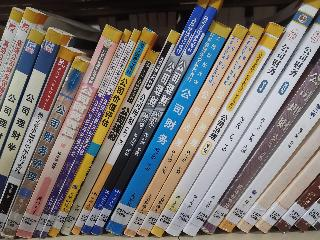book-spine: (163, 0, 320, 238), (177, 13, 320, 239), (90, 0, 222, 237), (79, 0, 210, 235), (149, 21, 284, 238), (102, 19, 234, 238), (134, 23, 267, 240), (123, 24, 249, 239), (13, 23, 123, 240), (44, 26, 156, 238), (70, 29, 181, 236), (38, 28, 141, 239), (198, 60, 320, 237), (32, 29, 131, 240), (57, 49, 160, 236), (0, 56, 90, 239), (216, 93, 320, 235), (0, 46, 78, 235), (0, 28, 64, 199), (232, 122, 320, 235), (0, 27, 45, 154), (258, 154, 320, 236), (0, 7, 37, 104), (0, 6, 25, 75)
